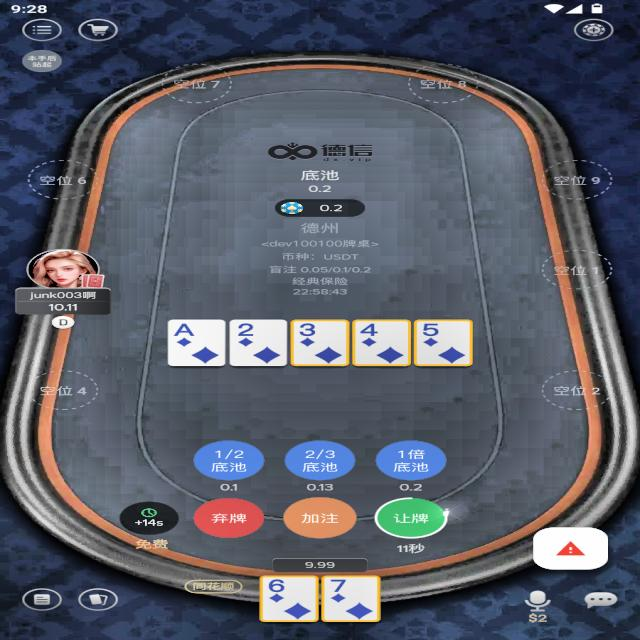2f: (234, 322, 256, 338)
3f: (295, 322, 324, 338)
4f: (358, 322, 382, 338)
5f: (418, 322, 448, 338)
6f: (264, 577, 290, 594)
7f: (326, 578, 349, 594)
Af: (172, 321, 198, 338)
